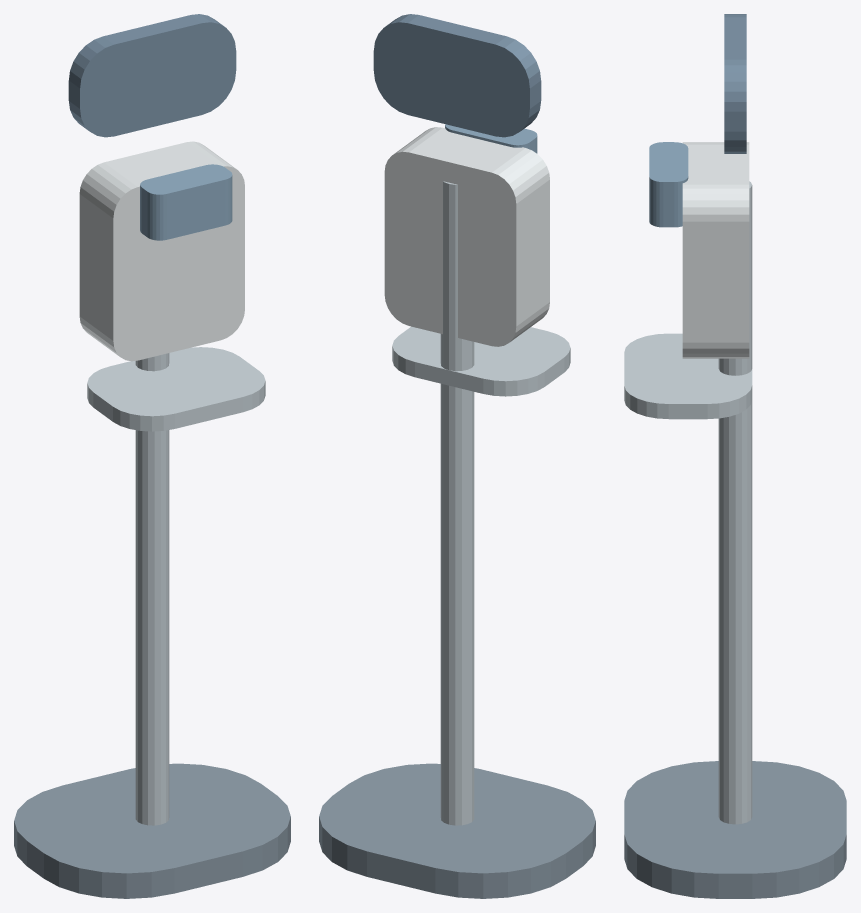
File: hospital_sanitizer_stand.glb
3 renders of one model, left to right at view 1: azimuth 30°, elevation 25°; view 2: azimuth 150°, elevation 25°; view 3: azimuth 270°, elevation 25°, orthographic.
Visible parts, largest first — view 1: decor_455665_metal, decor_d4dfe3_matte, decor_9aadb8_metal, decor_354d66_matte, decor_476a8a_matte; view 2: decor_d4dfe3_matte, decor_455665_metal, decor_9aadb8_metal, decor_354d66_matte, decor_476a8a_matte; view 3: decor_455665_metal, decor_9aadb8_metal, decor_d4dfe3_matte, decor_354d66_matte, decor_476a8a_matte.
Part boxes in pixels (box(x1,y1,x2,y2)): decor_455665_metal: box(14, 763, 290, 898); decor_d4dfe3_matte: box(79, 141, 244, 361); decor_9aadb8_metal: box(87, 347, 265, 825); decor_354d66_matte: box(68, 14, 236, 137); decor_476a8a_matte: box(140, 164, 232, 240); decor_d4dfe3_matte: box(384, 127, 549, 346); decor_455665_metal: box(319, 763, 595, 898); decor_9aadb8_metal: box(392, 181, 570, 825); decor_354d66_matte: box(373, 14, 541, 137); decor_476a8a_matte: box(445, 124, 537, 153); decor_455665_metal: box(624, 761, 846, 898); decor_9aadb8_metal: box(624, 181, 752, 824); decor_d4dfe3_matte: box(682, 142, 749, 358); decor_354d66_matte: box(724, 14, 746, 153); decor_476a8a_matte: box(649, 142, 688, 227).
Size of the model in its own units: 0.48 by 1.6 by 0.4.
